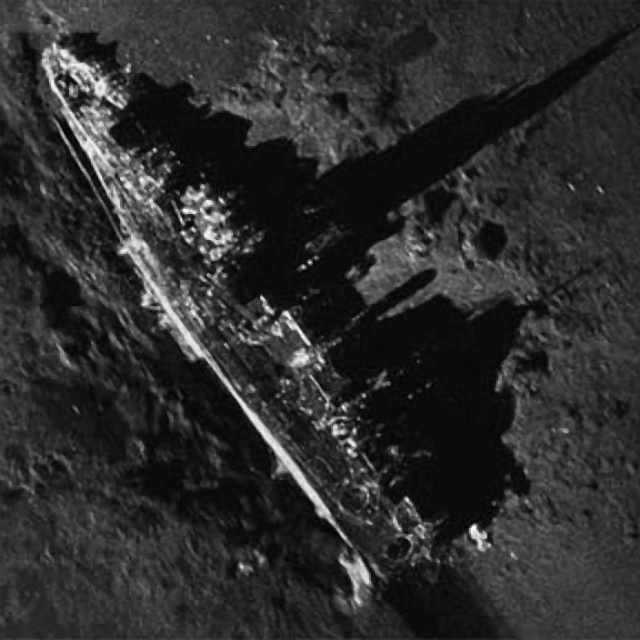Ship: (21, 23, 515, 622)
